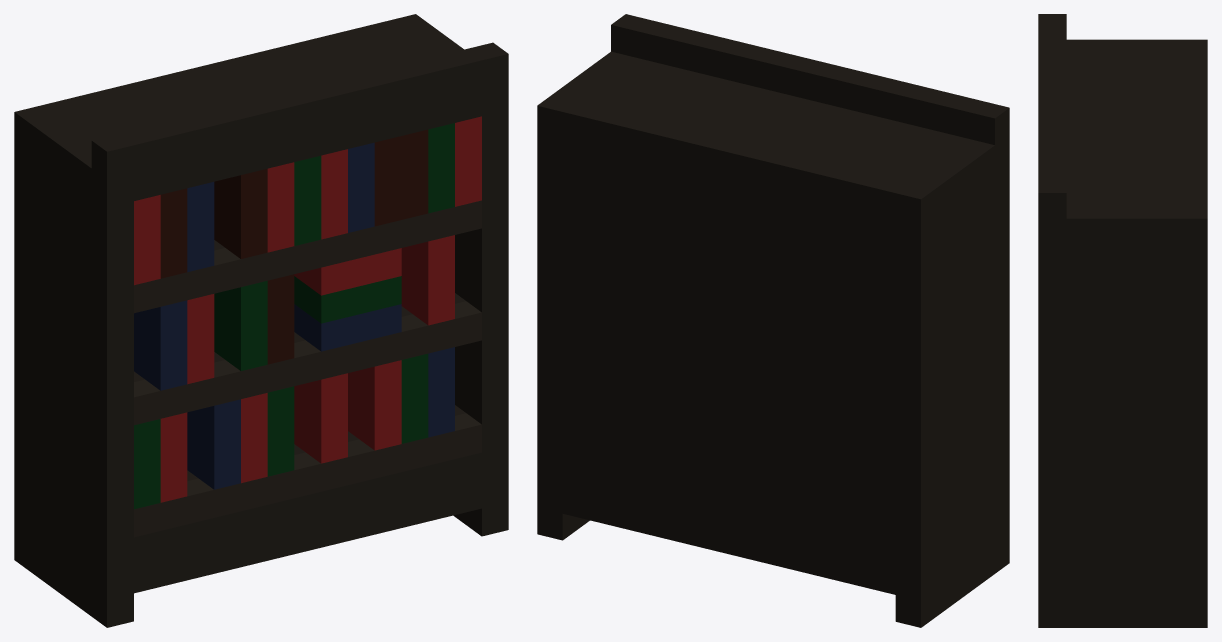
The model's file is Bookcase.obj.
3 views of the same model, side by side, from view 1: azimuth 30°, elevation 25°; view 2: azimuth 150°, elevation 25°; view 3: azimuth 270°, elevation 25° (orthographic). The views are drawn at different scales.
Size of the model in its own units: 1.5 by 1.7 by 0.6.
1 material, 1 textured.
